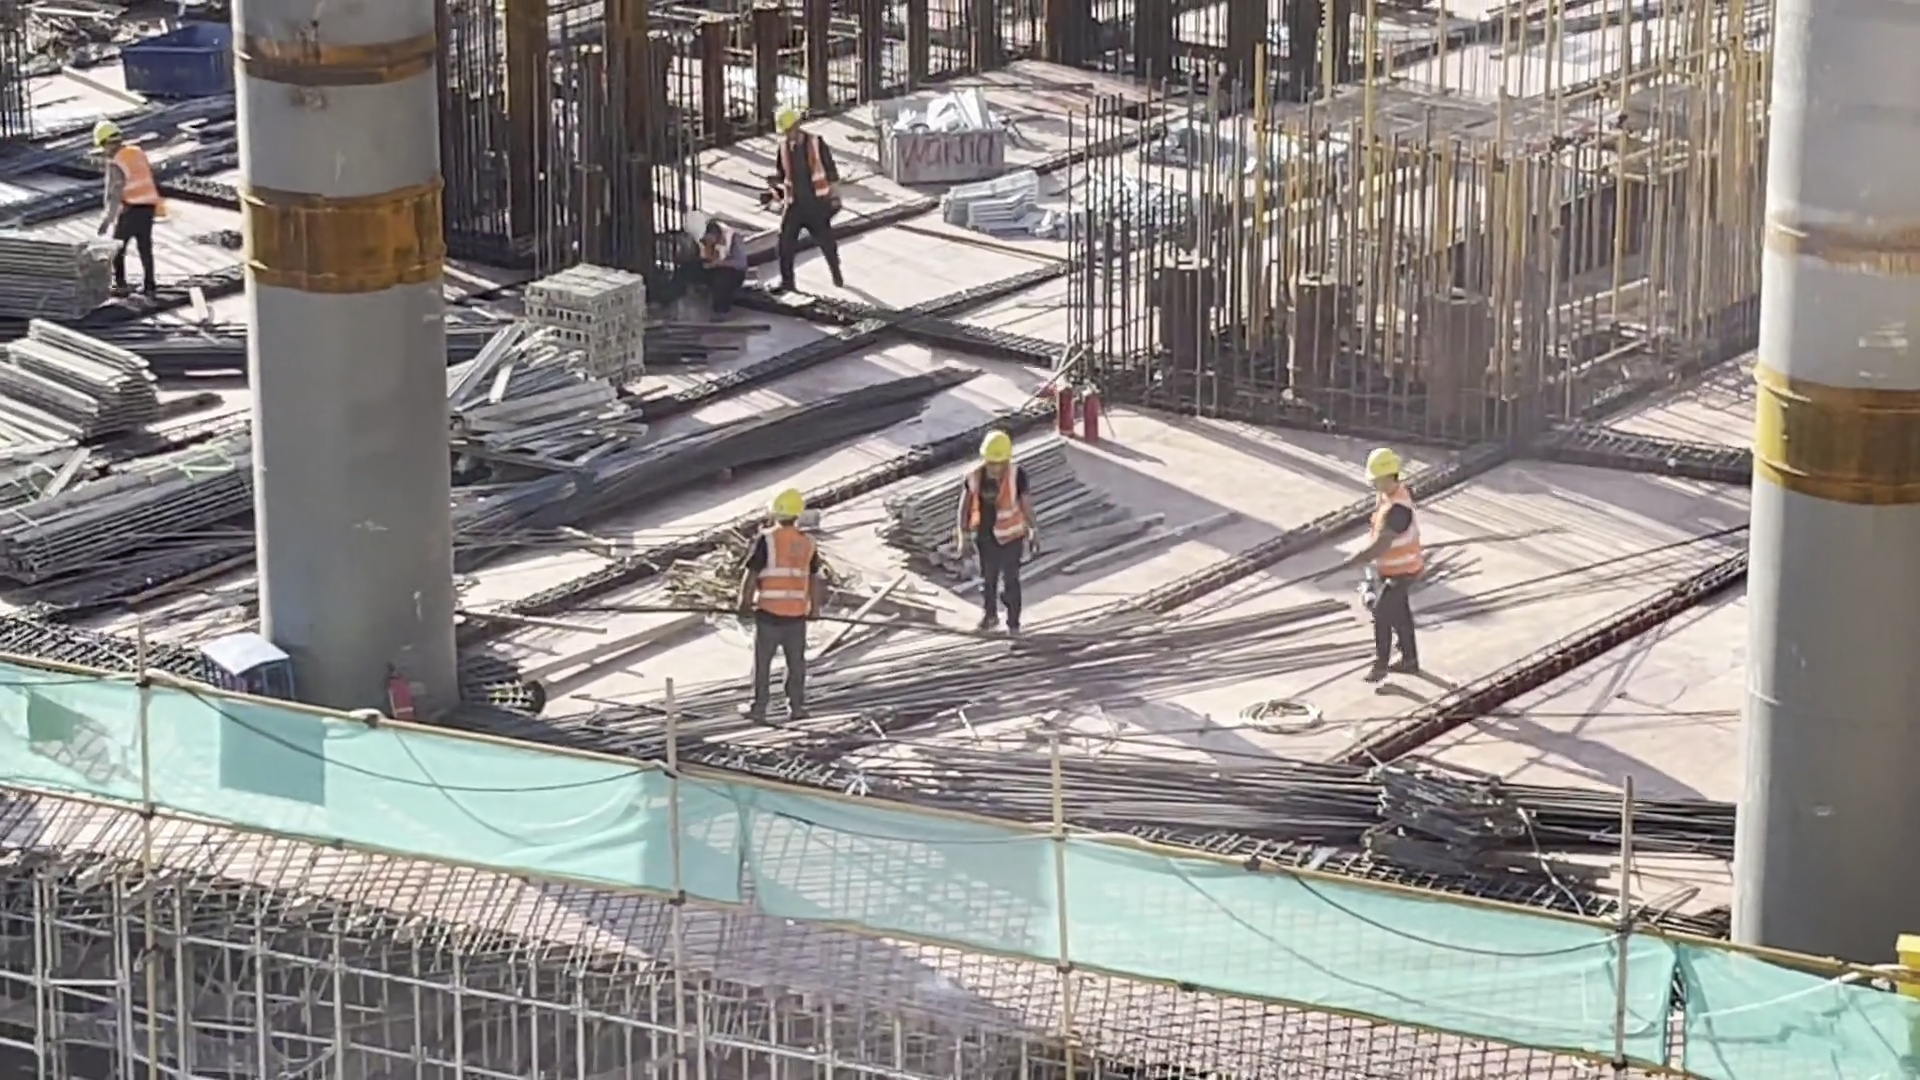helmet: (1359, 444, 1400, 482), (770, 487, 807, 524), (772, 97, 809, 135), (975, 433, 1016, 464), (677, 205, 714, 239), (90, 116, 130, 146)
person: (736, 476, 834, 715), (748, 91, 840, 294), (1356, 446, 1434, 680), (81, 120, 160, 293), (958, 419, 1022, 620), (663, 201, 754, 305)
vest: (752, 531, 819, 627), (1357, 497, 1422, 581), (970, 461, 1024, 538), (771, 144, 830, 212), (102, 156, 149, 215)
